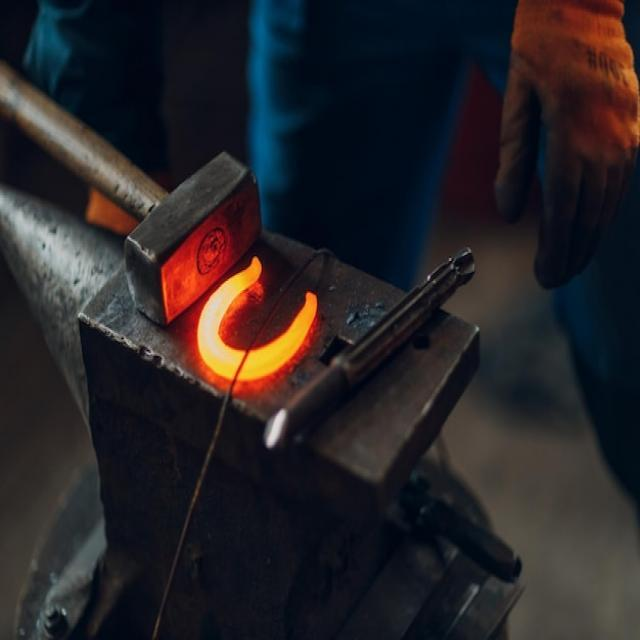hammer: (0, 45, 265, 332)
